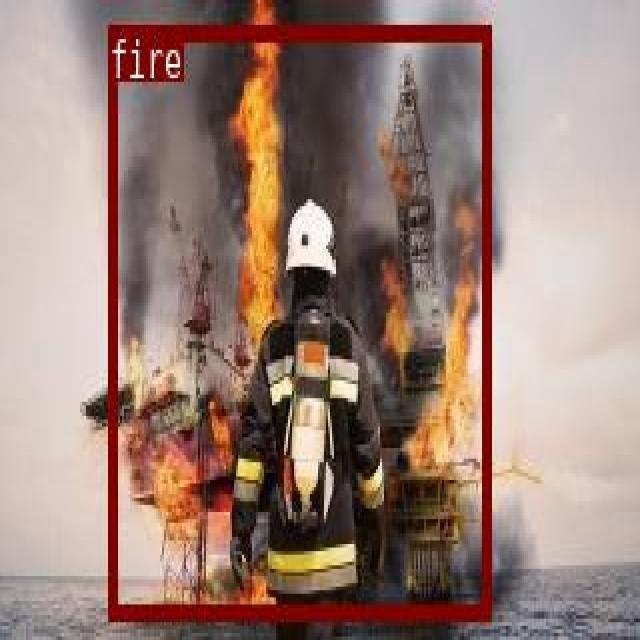fire: (106, 24, 489, 618)
